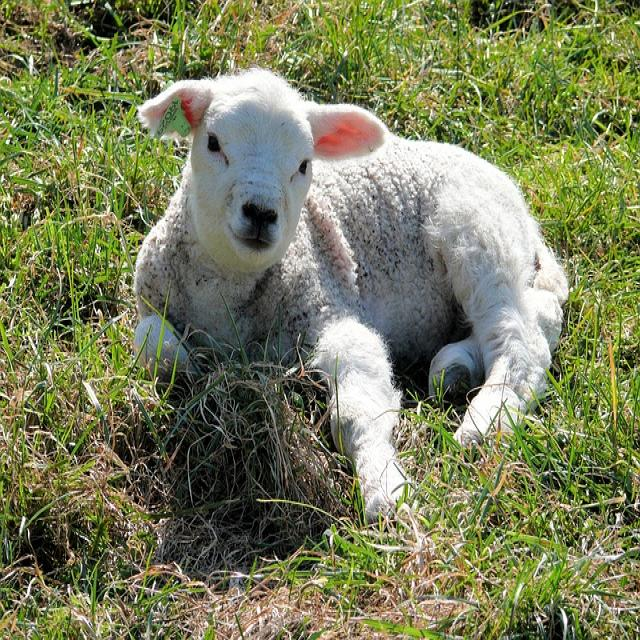goat: (135, 70, 569, 518)
